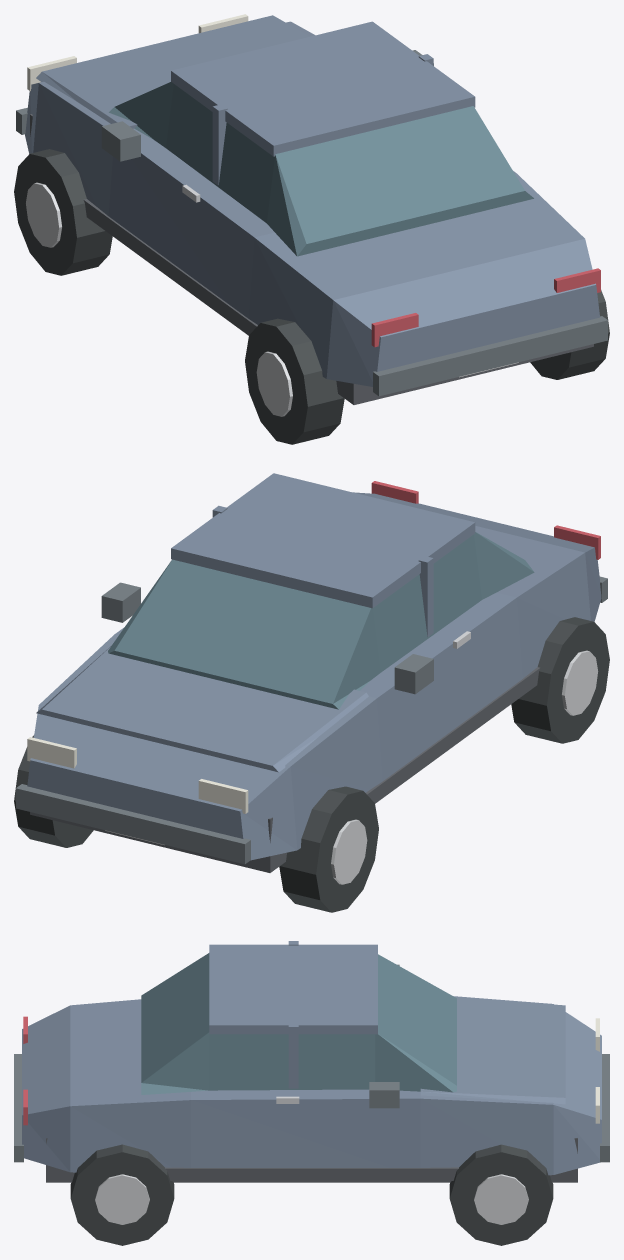
File: fiesta.glb
3 views of the same model, one above another, from view 1: azimuth 30°, elevation 25°; view 2: azimuth 150°, elevation 25°; view 3: azimuth 270°, elevation 25° (orthographic). The views are drawn at different scales.
Visible parts, largest first — view 1: body_0001, cab_glass_0022, roof_0023, hood_0002, wheel_tire_0006, wheel_tire_0004, bumper_0027, lower_sill_0012, wheel_tire_0015, wheel_rim_0007, wheel_rim_0005, chassis_0000 (+4 smaller); view 2: body_0001, cab_glass_0022, roof_0023, hood_0002, wheel_tire_0004, wheel_tire_0006, bumper_0026, lower_sill_0012, wheel_tire_0013, wheel_rim_0005, wheel_rim_0007, chassis_0000 (+7 smaller); view 3: body_0001, cab_glass_0022, roof_0023, hood_0002, wheel_tire_0015, wheel_tire_0013, lower_sill_0021, wheel_rim_0014, wheel_rim_0016, chassis_0000, bumper_0026, bumper_0027 (+2 smaller).
Part boxes in pixels (x1,y1,x2,y2): body_0001: (25, 21, 599, 386); cab_glass_0022: (109, 82, 533, 256); roof_0023: (171, 21, 475, 156); hood_0002: (36, 15, 309, 128); wheel_tire_0006: (245, 318, 344, 444); wheel_tire_0004: (14, 149, 112, 275); bumper_0027: (373, 316, 607, 396); lower_sill_0012: (83, 199, 257, 335); wheel_tire_0015: (530, 290, 609, 379); wheel_rim_0007: (256, 351, 292, 416); wheel_rim_0005: (26, 182, 61, 247); chassis_0000: (30, 114, 593, 404); body_0001: (27, 492, 601, 860); cab_glass_0022: (108, 532, 534, 709); roof_0023: (171, 473, 475, 608); hood_0002: (36, 646, 368, 772); wheel_tire_0004: (279, 786, 378, 912); wheel_tire_0006: (511, 617, 609, 743); bumper_0026: (16, 784, 250, 864); lower_sill_0012: (366, 667, 540, 803); wheel_tire_0013: (14, 735, 93, 847); wheel_rim_0005: (331, 819, 367, 884); wheel_rim_0007: (562, 650, 598, 715); chassis_0000: (30, 812, 286, 872); body_0001: (22, 996, 601, 1175); cab_glass_0022: (141, 953, 456, 1094); roof_0023: (209, 944, 377, 1034); hood_0002: (420, 997, 565, 1104); wheel_tire_0015: (70, 1144, 174, 1245); wheel_tire_0013: (449, 1144, 553, 1245); lower_sill_0021: (165, 1167, 458, 1180); wheel_rim_0014: (474, 1174, 528, 1224); wheel_rim_0016: (95, 1174, 149, 1224); chassis_0000: (46, 1138, 577, 1182); bumper_0026: (600, 1054, 609, 1162); bumper_0027: (14, 1054, 23, 1162).
Bounding box in the file's own units: 1.95 × 1.46 × 3.92.
